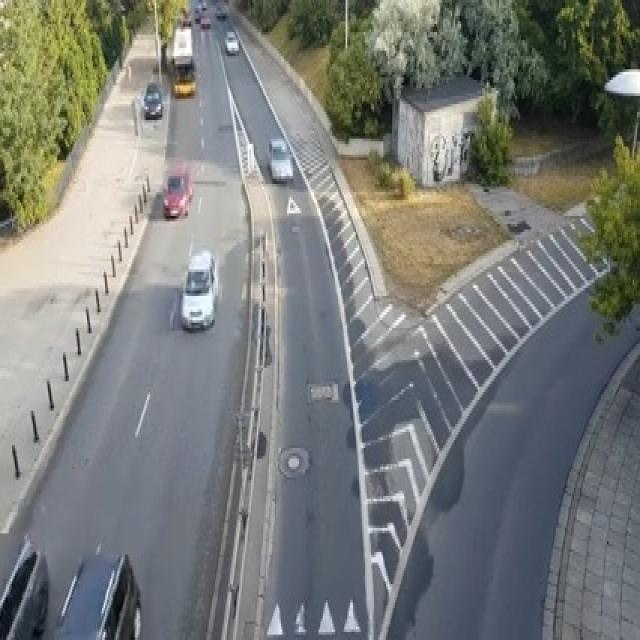car: (50, 547, 141, 637), (0, 534, 48, 638), (180, 248, 218, 331), (162, 170, 192, 218), (266, 136, 293, 181), (172, 64, 196, 96), (143, 83, 162, 117), (224, 30, 239, 54), (215, 0, 227, 19), (182, 8, 191, 24), (200, 13, 210, 27), (194, 6, 200, 22)
